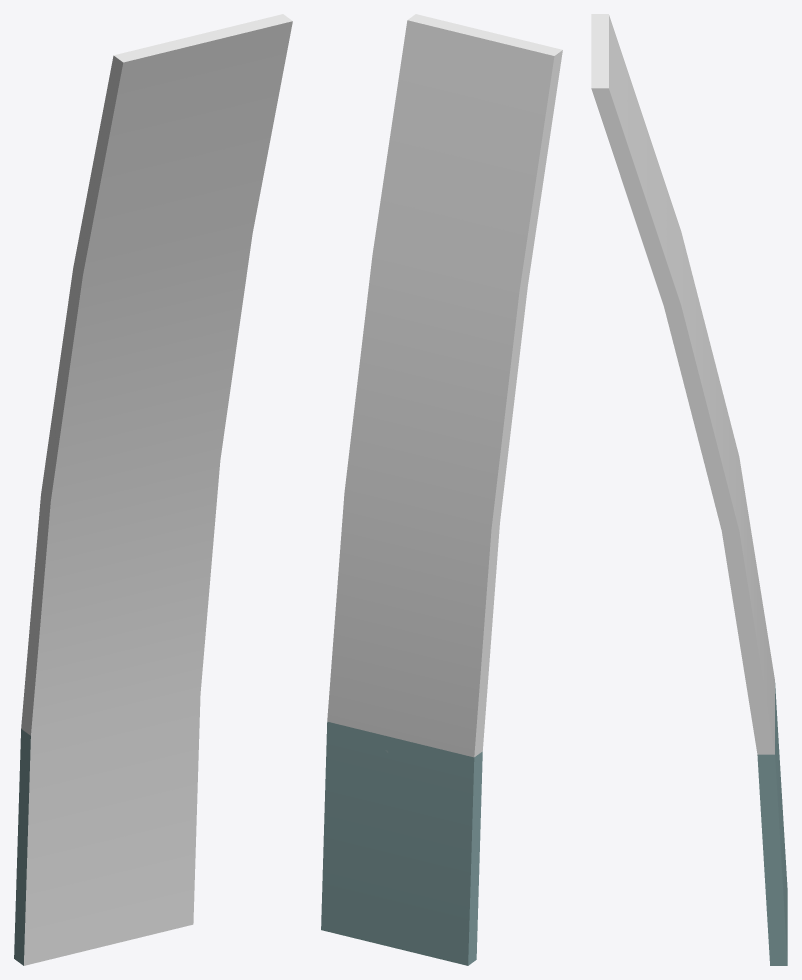
Rendered from wall_1m_tall.fbx.
3 renders of one model, left to right at view 1: azimuth 30°, elevation 25°; view 2: azimuth 150°, elevation 25°; view 3: azimuth 270°, elevation 25°, orthographic. The views are drawn at different scales.
Parts seen in each view (by area): view 1: wall_1m; view 2: wall_1m; view 3: wall_1m.
Boxes of the visible parts, left/top/right/bottom form: wall_1m: left=14, top=14, right=292, bottom=965; wall_1m: left=321, top=14, right=562, bottom=965; wall_1m: left=591, top=14, right=787, bottom=965.
Bounding box in the file's own units: 100 × 550 × 112.
